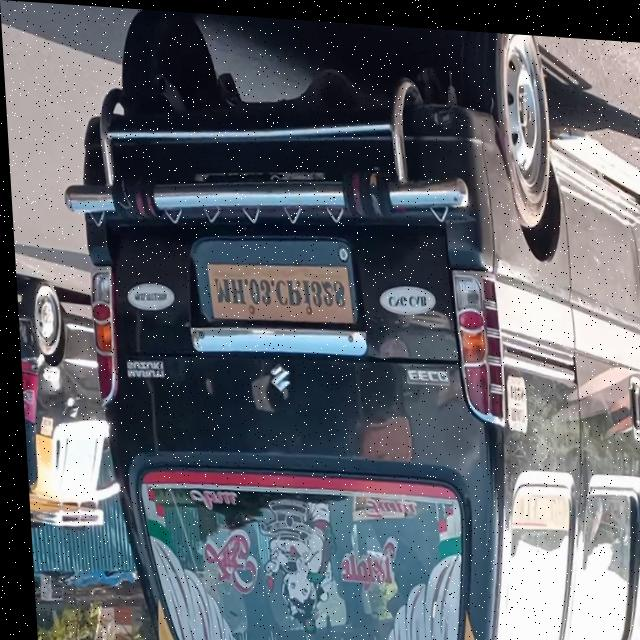plate: (200, 247, 352, 331)
